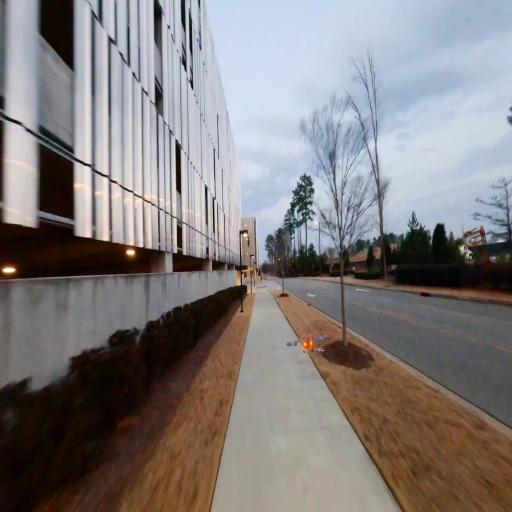uav: (285, 327, 331, 361)
